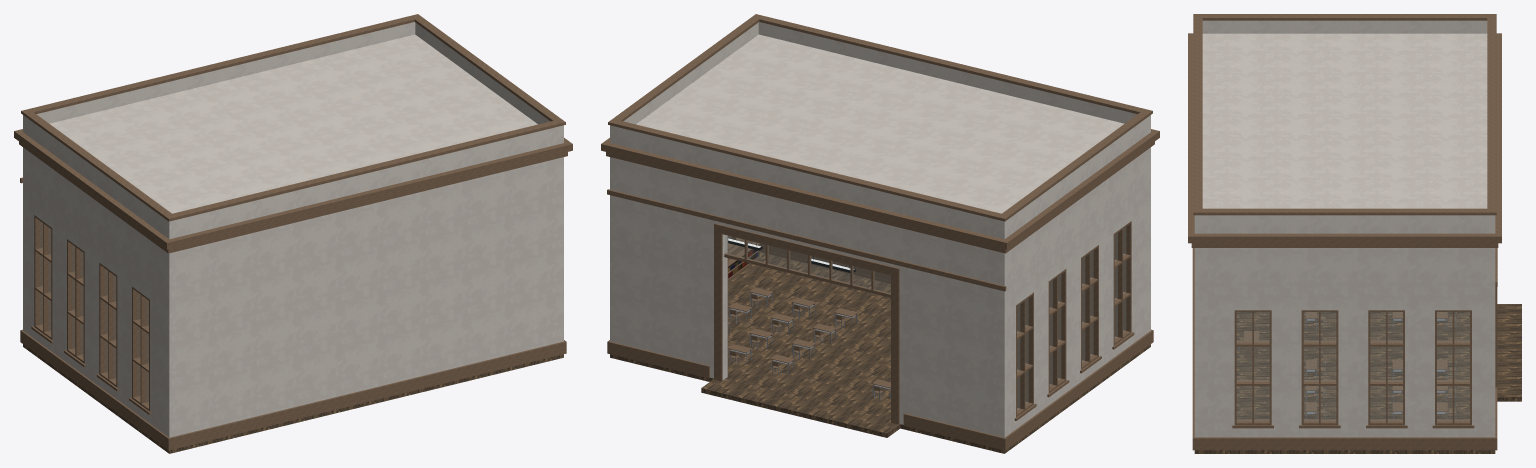
The model's file is hall_classroom.glb.
3 renders of one model, left to right at view 1: azimuth 30°, elevation 25°; view 2: azimuth 150°, elevation 25°; view 3: azimuth 270°, elevation 25°, orthographic. The views are drawn at different scales.
Visible parts, largest first — view 1: Shell, Trim, Floor, Windows; view 2: Shell, Trim, Floor, Windows, Desks; view 3: Shell, Trim, Floor, Windows, Desks.
Boxes of the visible parts, x1,y1,x2,y2 form: Shell: (23,22,563,437); Trim: (14,14,572,450); Floor: (23,344,563,453); Windows: (40,222,148,404); Shell: (610,22,1150,437); Trim: (601,14,1159,450); Floor: (610,252,1150,453); Windows: (725,227,1125,409); Desks: (728,242,890,400); Shell: (1194,20,1495,437); Trim: (1188,14,1501,450); Floor: (1194,304,1521,453); Windows: (1237,312,1469,420); Desks: (1238,312,1456,419).
Size of the model in its own units: 28.8 by 15.98 by 20.
Materials: 10 (7 with a texture image).
